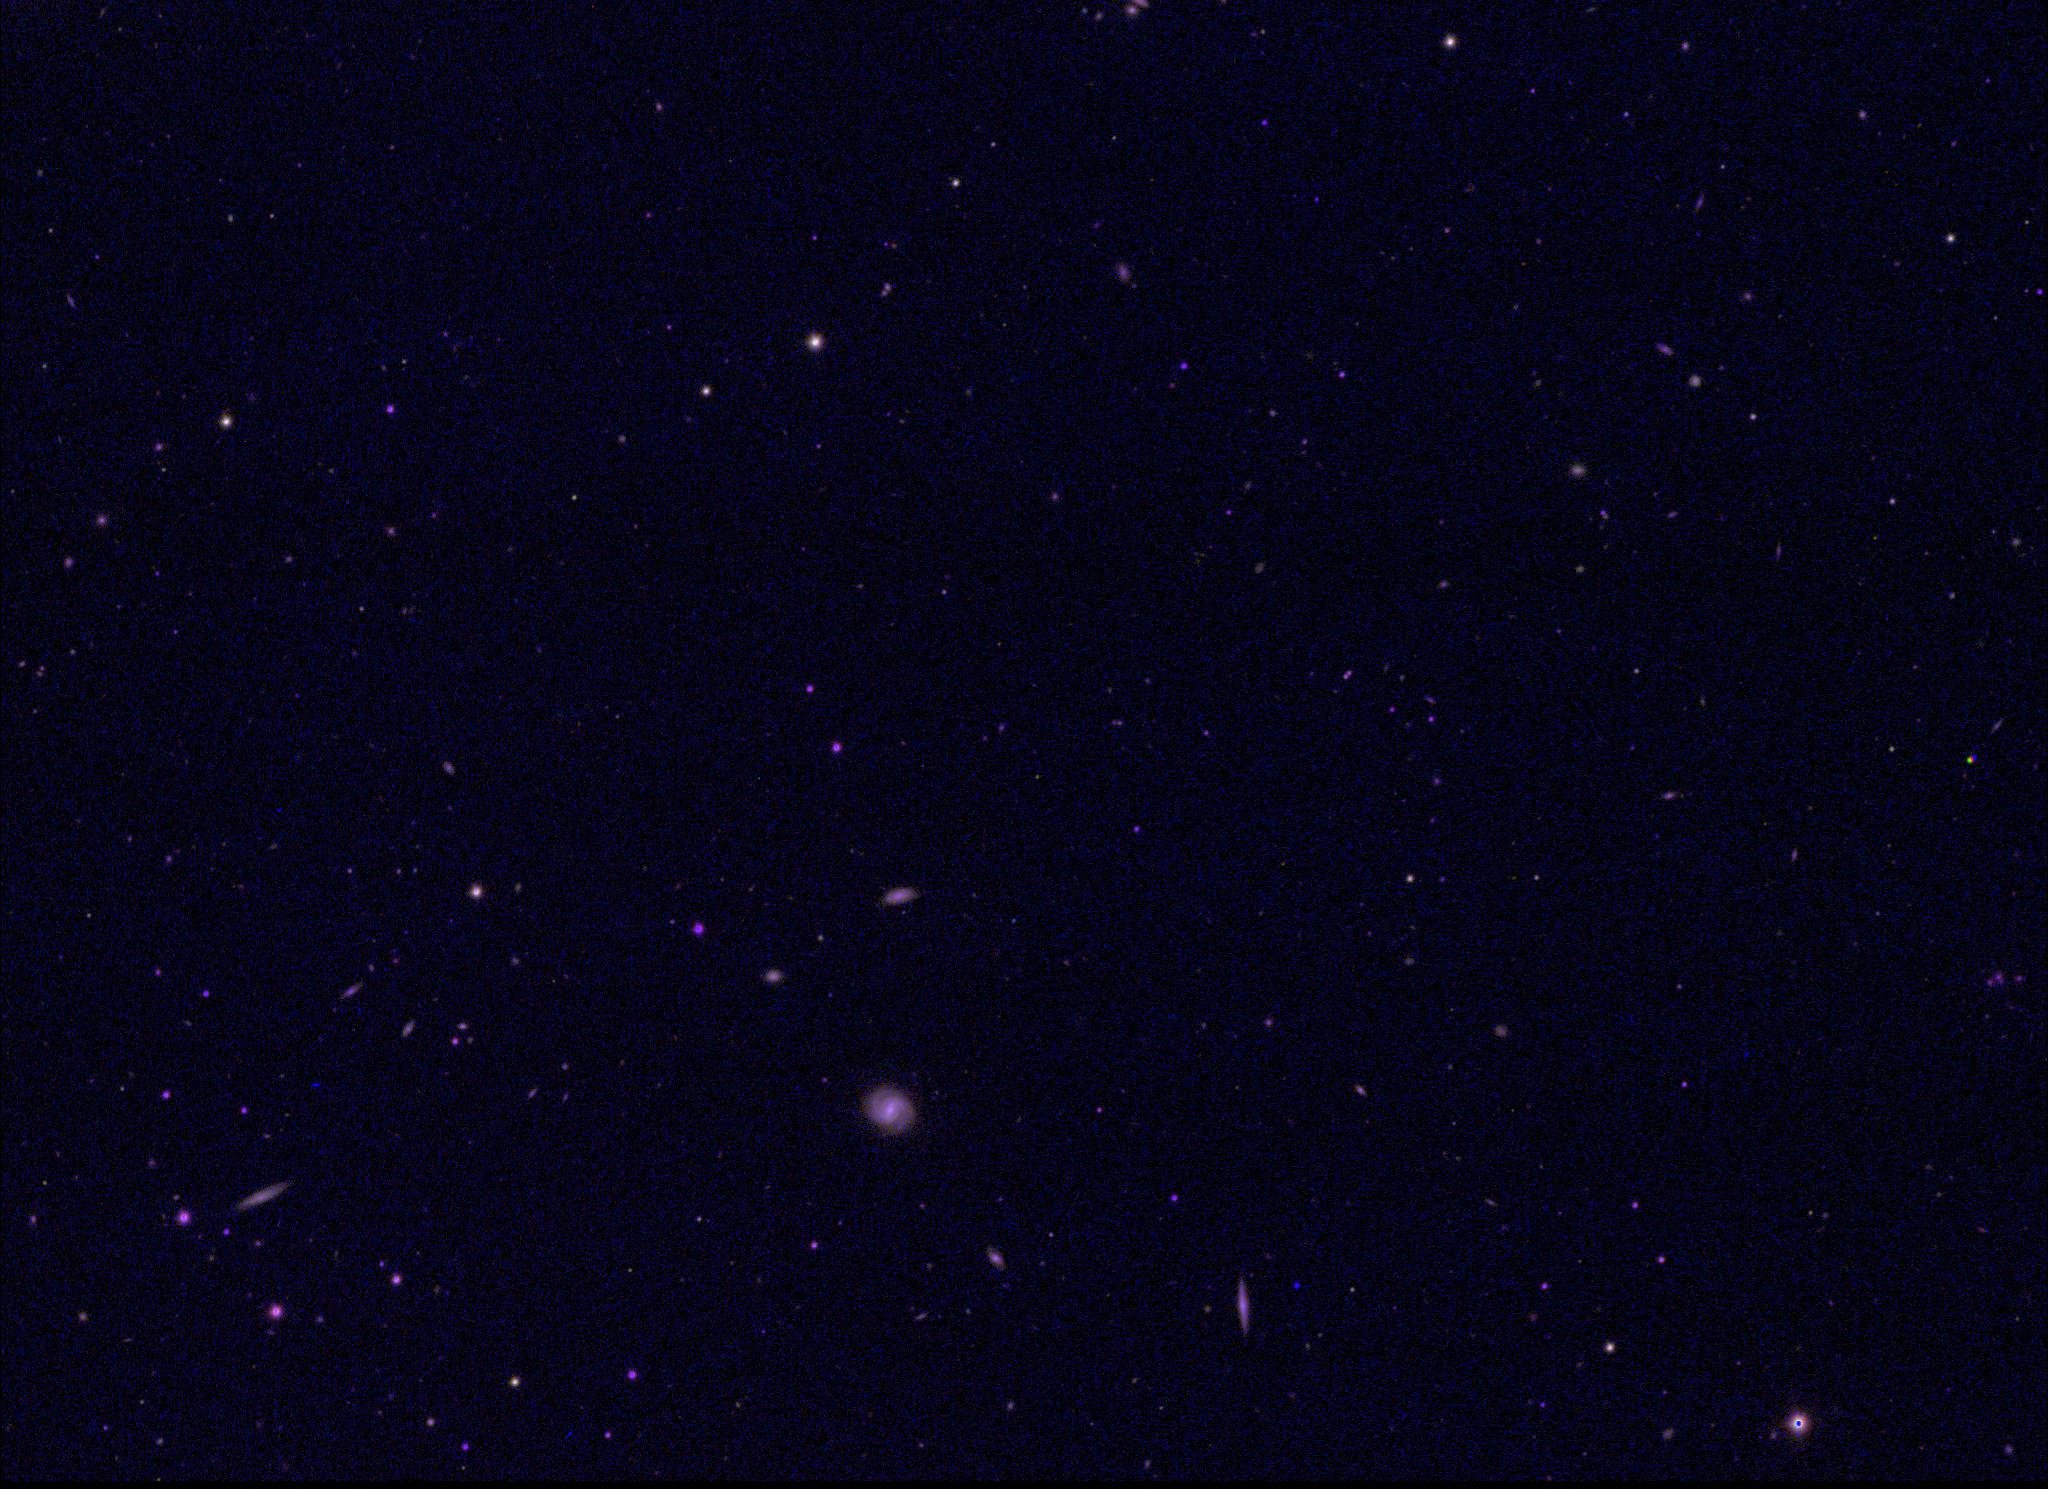L: (1291, 1276, 1305, 1290)
